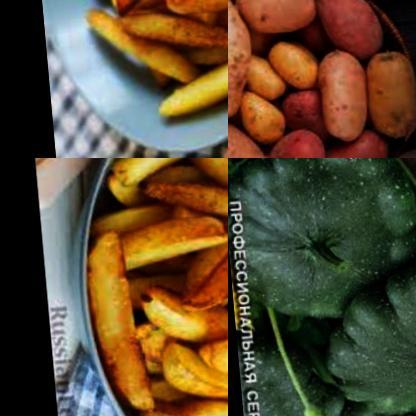potato: (77, 158, 228, 416), (51, 0, 228, 127), (307, 48, 370, 152), (359, 46, 416, 149), (310, 0, 384, 66), (230, 0, 317, 45), (255, 38, 320, 98), (288, 124, 395, 158), (228, 0, 257, 125), (228, 91, 285, 148), (270, 85, 320, 139), (234, 54, 284, 103), (256, 126, 321, 158), (228, 110, 266, 158)
squash-patisson: (228, 158, 416, 334), (319, 265, 416, 416), (235, 355, 397, 416)
